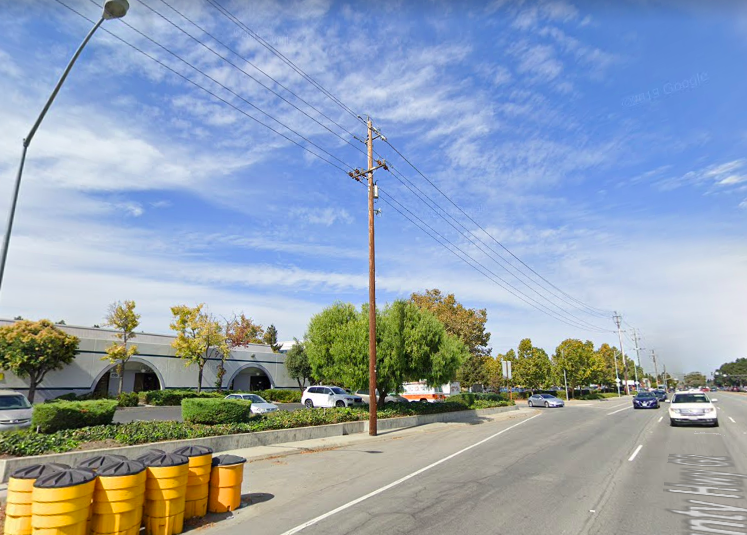tree: (303, 298, 469, 412)
utility_pole: (344, 110, 395, 199)
